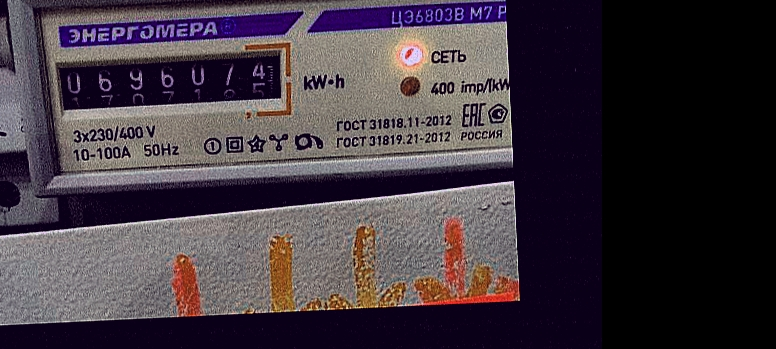0: (59, 71, 79, 97), (185, 62, 203, 89)
4: (246, 59, 263, 83)
5: (247, 83, 263, 101)
6: (91, 68, 112, 96), (153, 66, 172, 91)
7: (214, 62, 234, 89)
9: (121, 67, 142, 93)
screen: (40, 39, 295, 132)
